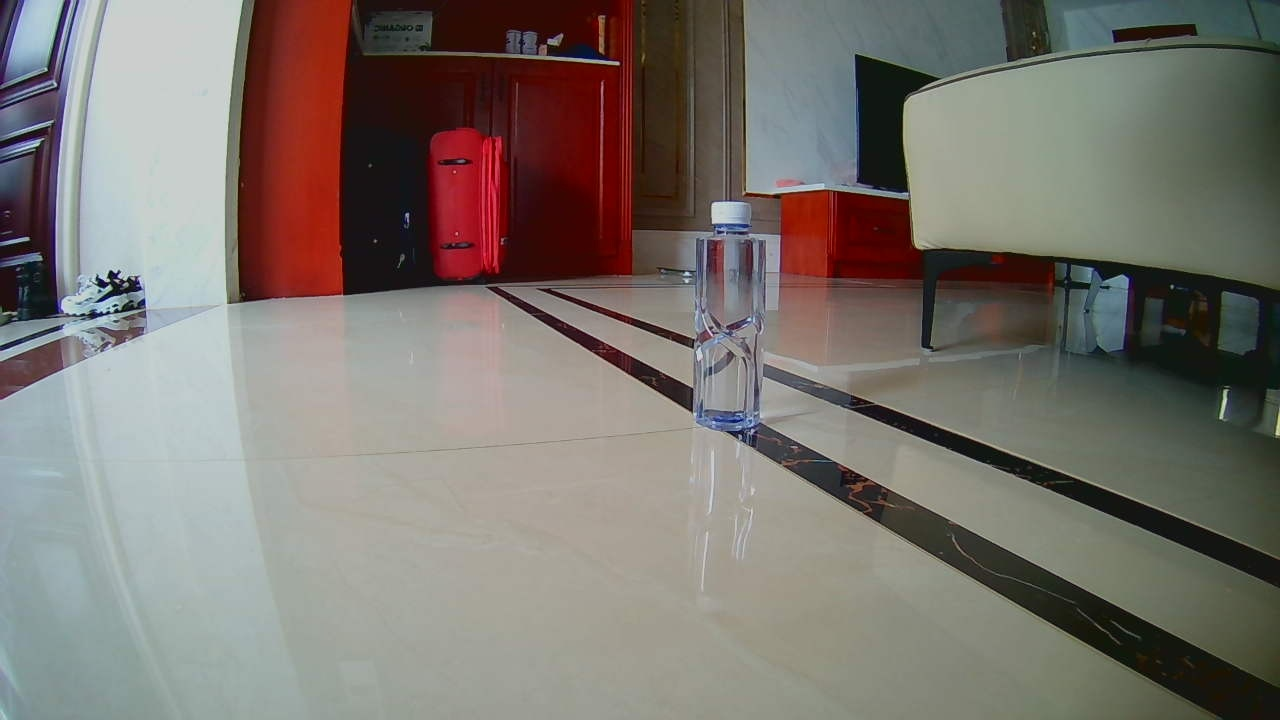water: (695, 201, 762, 432)
